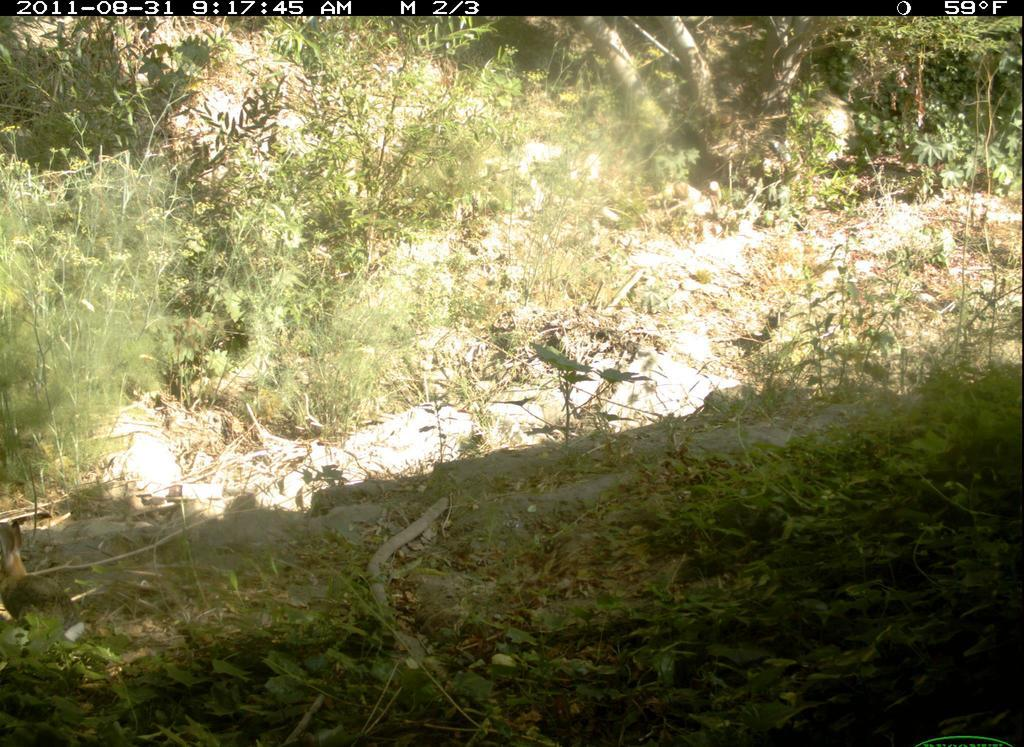rabbit: (1, 515, 96, 649)
